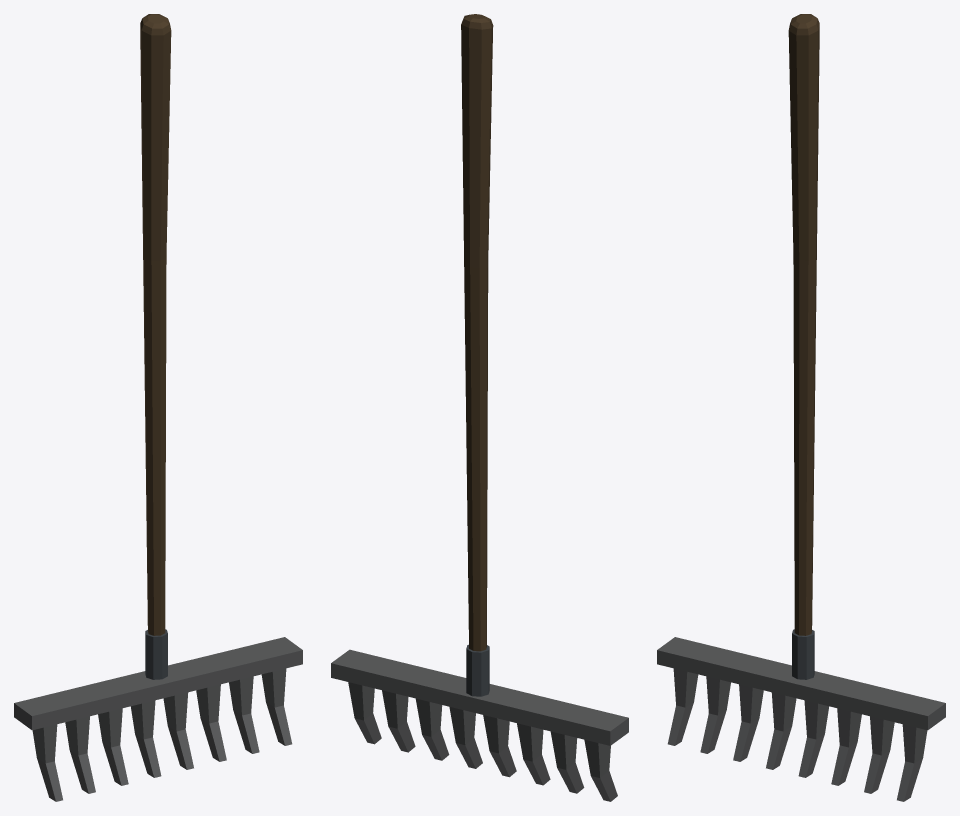
The model's file is Rake_1.fbx.
3 views of the same model, side by side, from view 1: azimuth 30°, elevation 25°; view 2: azimuth 150°, elevation 25°; view 3: azimuth 330°, elevation 25° (orthographic). The views are drawn at different scales.
Visible parts, largest first — view 1: Rake_1; view 2: Rake_1; view 3: Rake_1.
Boxes of the visible parts, x1,y1,x2,y2 form: Rake_1: [14, 14, 302, 801]; Rake_1: [331, 14, 628, 801]; Rake_1: [657, 14, 945, 801].
Bounding box in the file's own units: 57.32 × 150 × 9.65.
